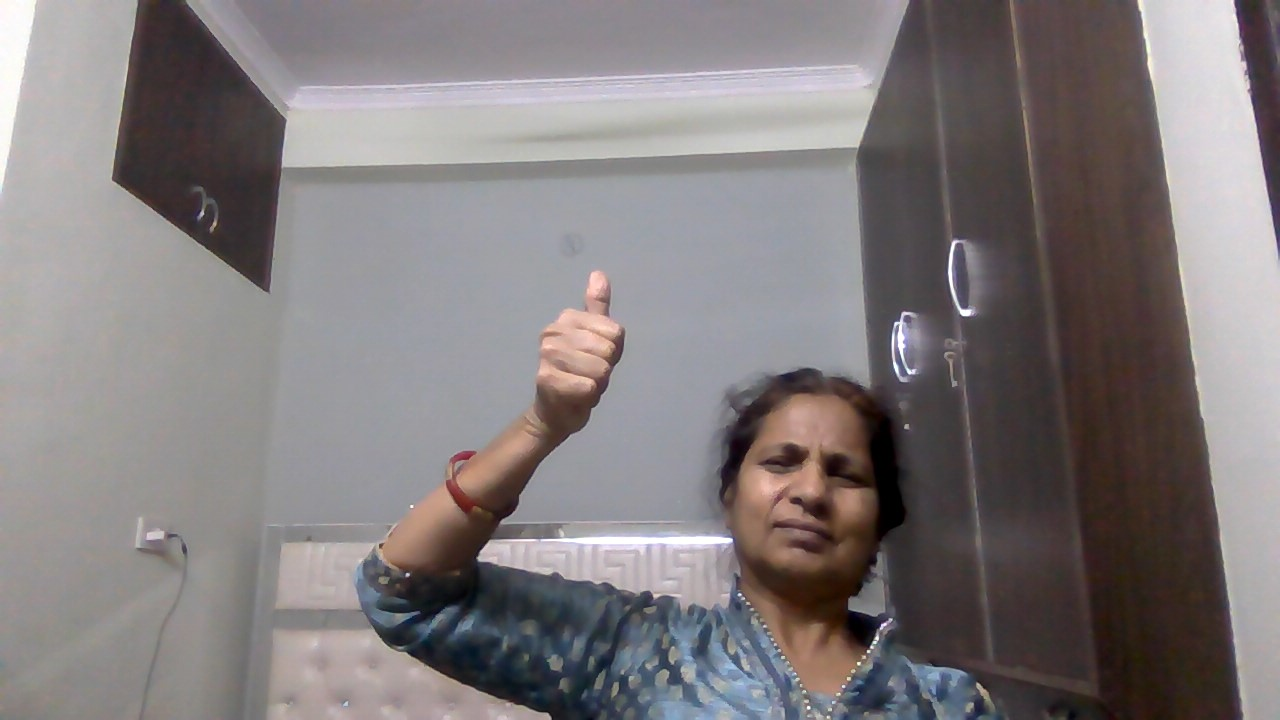Save: (524, 263, 633, 446)
